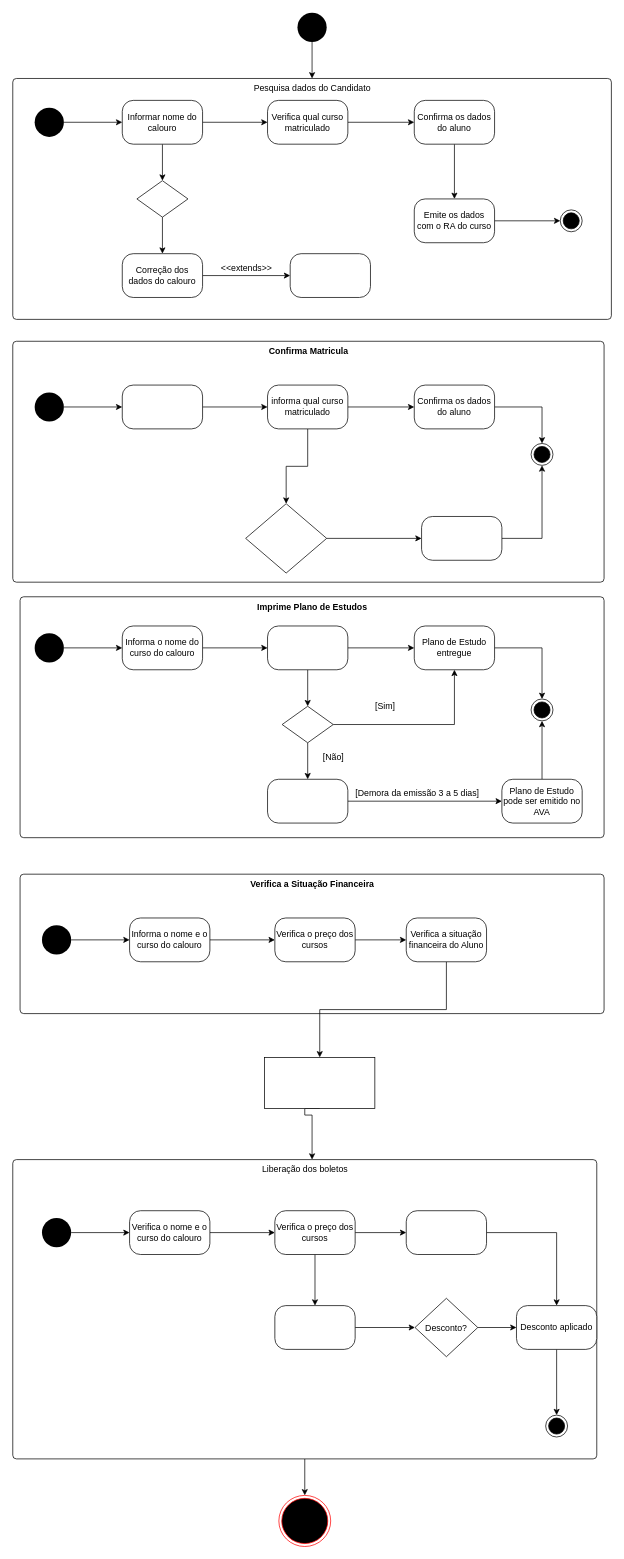
The diagram is 624 pixels wide and 1559 high, and some of its shapes have lost their labels. Each missing label, with the centre of its shape:
"Alteração dos dados do aluno" goes at (x=329, y=275).
"Comunicar com a financeira para liberação do boleta" goes at (x=319, y=1083).
"Confirma os dados dos cursos e o RA" goes at (x=461, y=538).
"Correção?" goes at (x=162, y=198).
"Disponivel?" goes at (x=307, y=724).
"Emite pedido do Plano de Estudo" goes at (x=307, y=647).
"Informa o nome do aluno" goes at (x=162, y=406).
"Informação para acesso ao AVA para emissão do Plano de Estudo" goes at (x=307, y=801).
"Matriculou em outros cursos?" goes at (x=286, y=538).
"Verifica os descontos do curso" goes at (x=446, y=1232).
"Verificar a forma de ingresso na matricula" goes at (x=314, y=1327).
